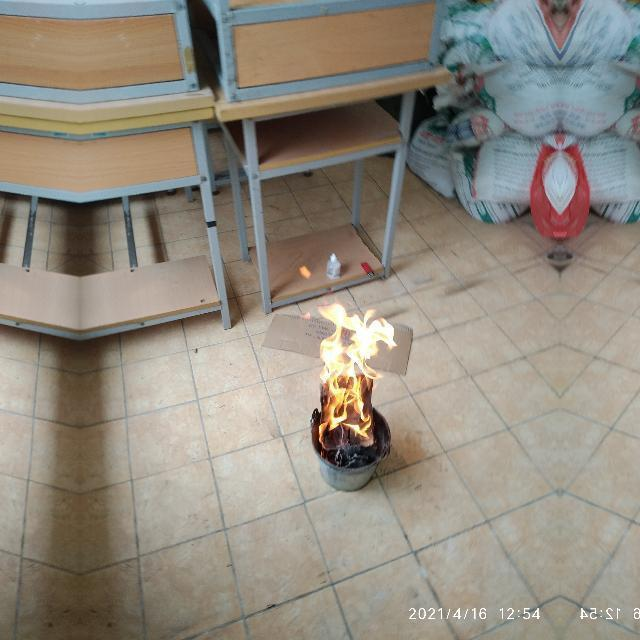smoke: (301, 290, 399, 458)
